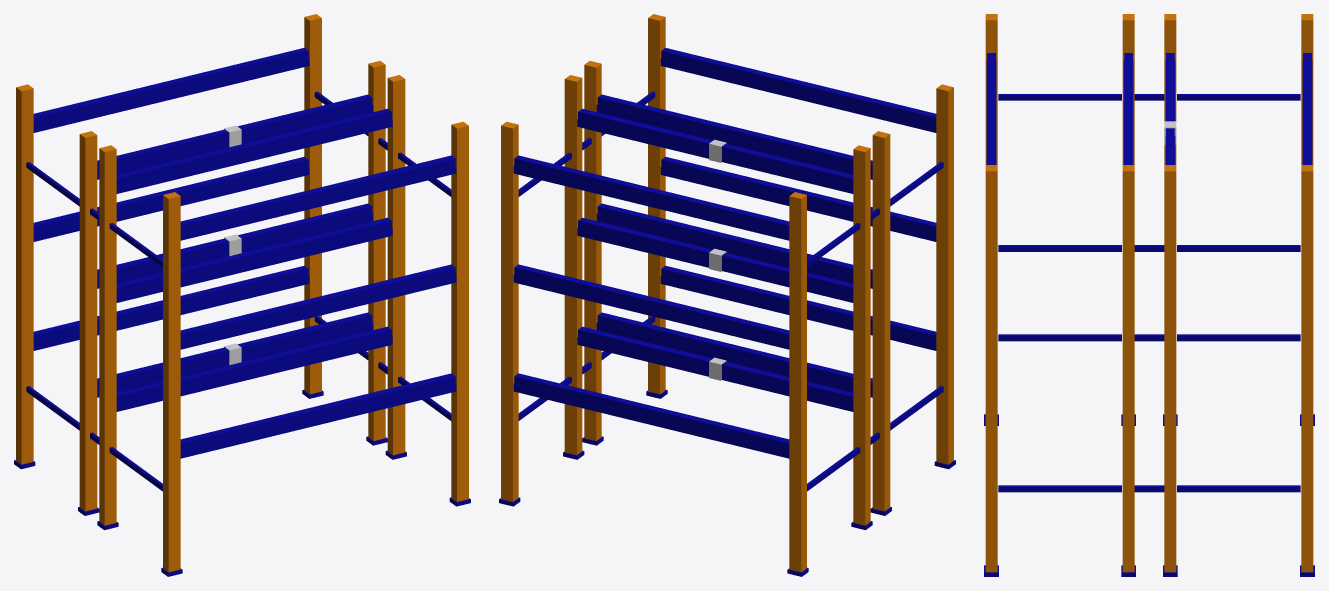
File: high-duty-C25-3-pair.glb
3 renders of one model, left to right at view 1: azimuth 30°, elevation 25°; view 2: azimuth 150°, elevation 25°; view 3: azimuth 270°, elevation 25°, orthographic. The views are drawn at different scales.
Parts seen in each view (by area): view 1: group1_geometry_0, group2_geometry_0, group2_geometry_4, group1_geometry_4, group2_geometry_2, group2_geometry_6, group1_geometry_2, group1_geometry_6, group2_geometry_8, group2_geometry_12, group2_geometry_18, group2_geometry_16 (+20 smaller); view 2: group2_geometry_4, group1_geometry_4, group1_geometry_0, group2_geometry_0, group1_geometry_6, group1_geometry_2, group2_geometry_6, group2_geometry_2, group1_geometry_10, group1_geometry_15, group1_geometry_20, group2_geometry_16 (+20 smaller); view 3: group1_geometry_2, group1_geometry_6, group2_geometry_2, group2_geometry_6, group1_geometry_20, group2_geometry_16, group2_geometry_18, group1_geometry_23, group1_geometry_25, group2_geometry_20, group2_geometry_22, group2_geometry_4 (+8 smaller).
Boxes of the visible parts, x1=… form: group1_geometry_0: x1=79, y1=131, x2=97, y2=511; group2_geometry_0: x1=163, y1=192, x2=180, y2=572; group2_geometry_4: x1=99, y1=145, x2=116, y2=525; group1_geometry_4: x1=16, y1=84, x2=33, y2=464; group2_geometry_2: x1=451, y1=121, x2=468, y2=501; group2_geometry_6: x1=387, y1=75, x2=405, y2=455; group1_geometry_2: x1=368, y1=61, x2=385, y2=440; group1_geometry_6: x1=304, y1=14, x2=321, y2=394; group2_geometry_8: x1=180, y1=373, x2=455, y2=450; group2_geometry_12: x1=180, y1=264, x2=455, y2=341; group2_geometry_18: x1=116, y1=108, x2=391, y2=186; group2_geometry_16: x1=180, y1=155, x2=455, y2=232; group2_geometry_4: x1=872, y1=131, x2=890, y2=511; group1_geometry_4: x1=789, y1=192, x2=806, y2=572; group1_geometry_0: x1=853, y1=145, x2=870, y2=525; group2_geometry_0: x1=936, y1=84, x2=953, y2=464; group1_geometry_6: x1=501, y1=121, x2=518, y2=501; group1_geometry_2: x1=564, y1=75, x2=582, y2=455; group2_geometry_6: x1=584, y1=61, x2=601, y2=440; group2_geometry_2: x1=648, y1=14, x2=665, y2=394; group1_geometry_10: x1=514, y1=373, x2=789, y2=450; group1_geometry_15: x1=514, y1=264, x2=789, y2=341; group1_geometry_20: x1=514, y1=155, x2=789, y2=232; group2_geometry_16: x1=661, y1=47, x2=936, y2=125; group1_geometry_2: x1=1164, y1=165, x2=1176, y2=572; group1_geometry_6: x1=1301, y1=165, x2=1313, y2=572; group2_geometry_2: x1=985, y1=165, x2=997, y2=572; group2_geometry_6: x1=1122, y1=165, x2=1134, y2=572; group1_geometry_20: x1=1303, y1=53, x2=1311, y2=164; group2_geometry_16: x1=987, y1=53, x2=995, y2=164; group2_geometry_18: x1=1124, y1=53, x2=1132, y2=164; group1_geometry_23: x1=1177, y1=334, x2=1300, y2=341; group1_geometry_25: x1=1177, y1=485, x2=1300, y2=492; group2_geometry_20: x1=998, y1=334, x2=1121, y2=341; group2_geometry_22: x1=998, y1=485, x2=1121, y2=492; group2_geometry_4: x1=1122, y1=14, x2=1134, y2=164.
Bounding box in the file's own units: 2520 × 3000 × 2220.
